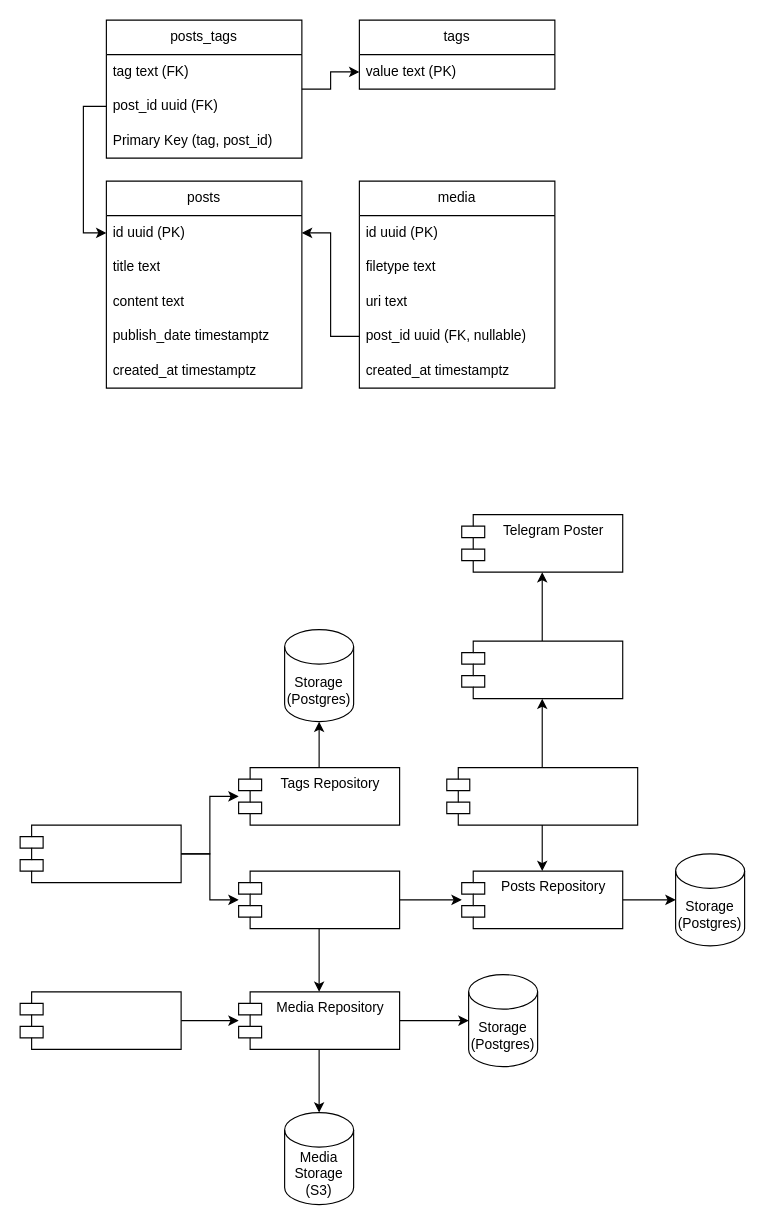
Image size: 765x1225. Some labels were removed from this diagram. The shapes that lost their labels are listed below. From the top down, each one's centre as x and y in pixels, then its label:
At (x=542, y=669): "Events Dispatcher".
At (x=542, y=795): "Cron (every 30 minutes) New post event".
At (x=100, y=853): "REST API".
At (x=318, y=899): "Posts Service".
At (x=100, y=1020): "Cron (every day) Clean unused media".
